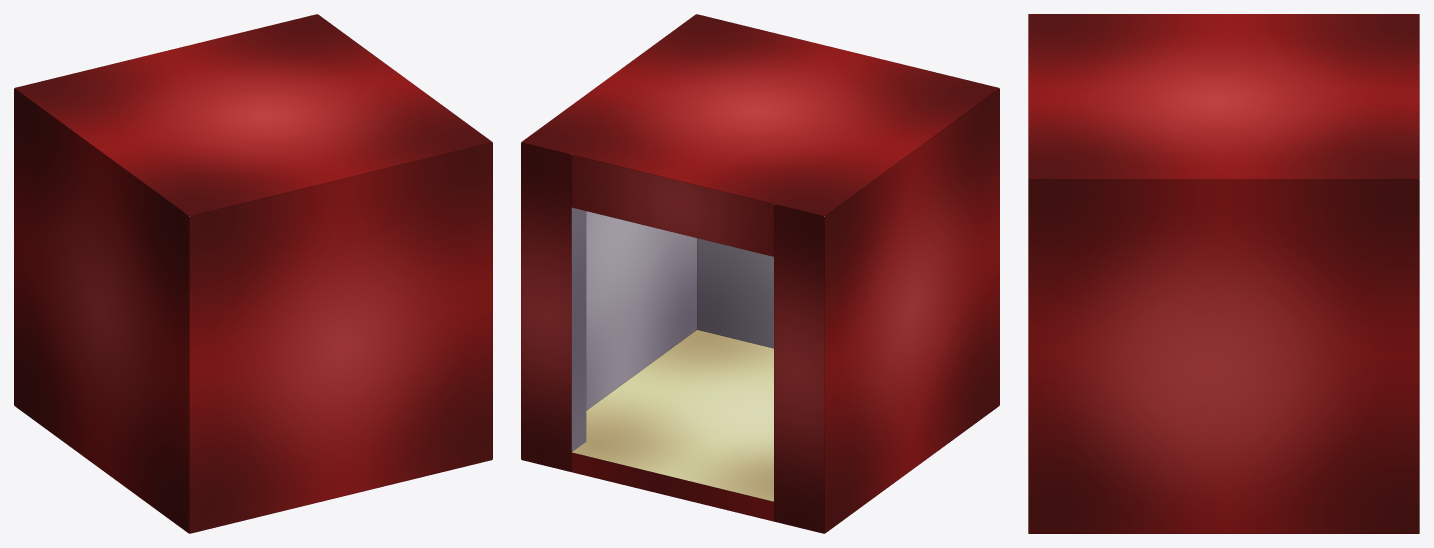
File: elevator.fbx
3 renders of one model, left to right at view 1: azimuth 30°, elevation 25°; view 2: azimuth 150°, elevation 25°; view 3: azimuth 270°, elevation 25°, orthographic. The views are drawn at different scales.
Visible parts, largest first — view 1: cuboid; view 2: cuboid; view 3: cuboid.
Part boxes in pixels (left/top/right/bottom): cuboid: left=14, top=14, right=492, bottom=533; cuboid: left=521, top=14, right=999, bottom=533; cuboid: left=1028, top=14, right=1419, bottom=533.
Size of the model in its own units: 300 by 300 by 300.
Materials: 1 (1 with a texture image).
